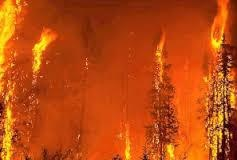fire: (115, 123, 136, 160)
